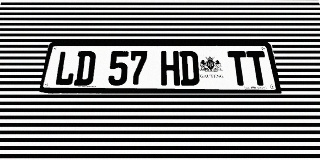5: (108, 51, 129, 86)
7: (128, 51, 148, 86)
D: (73, 51, 96, 86), (179, 51, 200, 86)
H: (161, 51, 180, 86)
L: (53, 51, 78, 86)
T: (246, 51, 270, 86), (227, 51, 250, 86)
